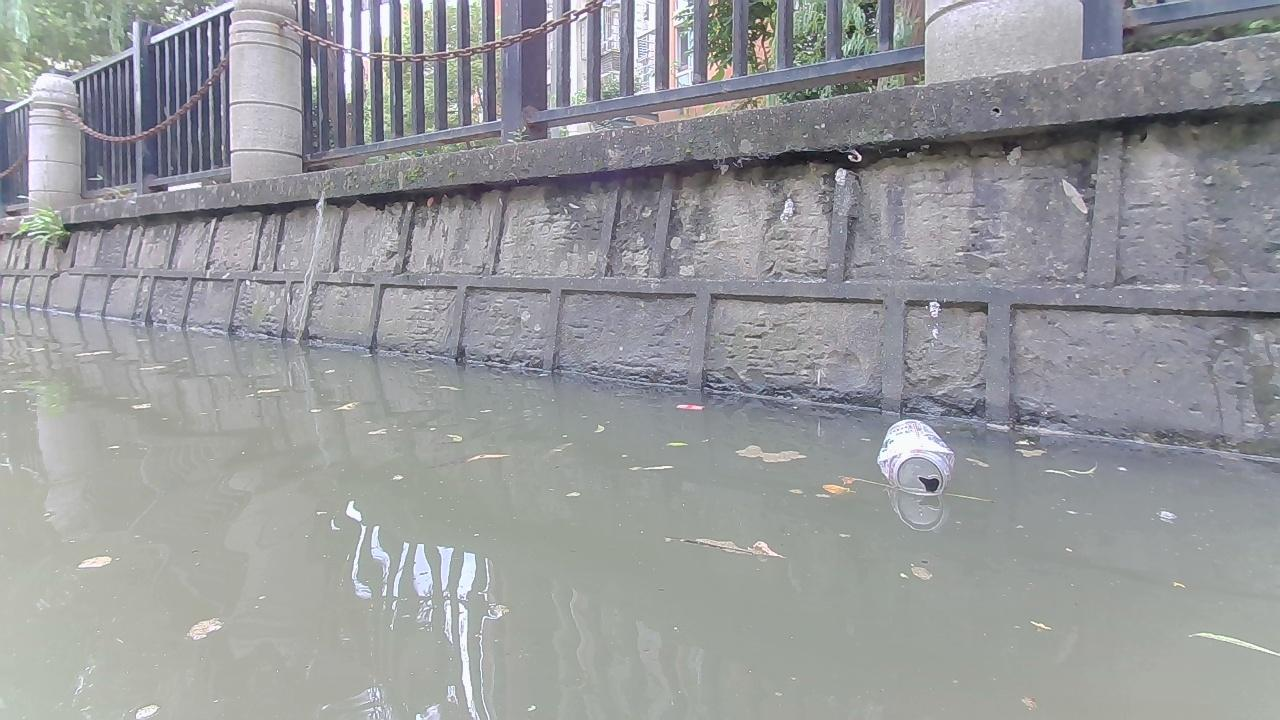bottle: (876, 418, 954, 497)
